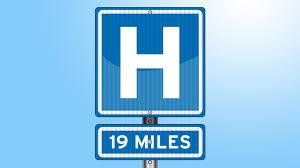Hospital: (93, 0, 203, 158)
